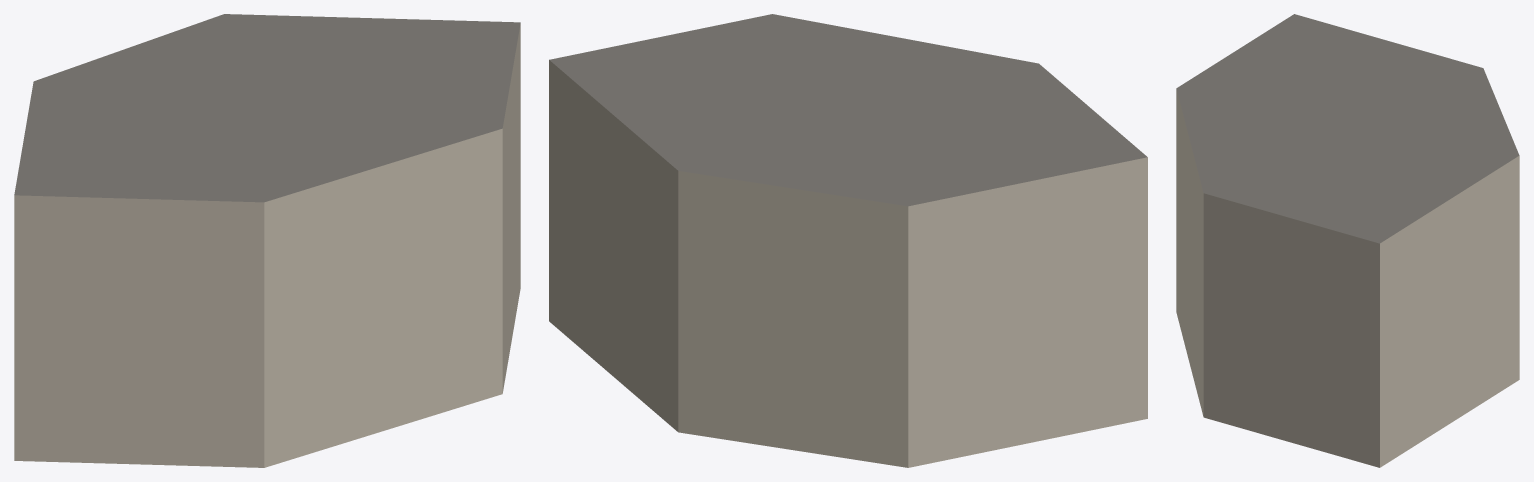
The picture shows the model from 3 angles, left to right: view 1: azimuth 30°, elevation 25°; view 2: azimuth 150°, elevation 25°; view 3: azimuth 270°, elevation 25°; orthographic projection. The views are drawn at different scales.
Visible parts, largest first — view 1: HP-w859488842; view 2: HP-w859488842; view 3: HP-w859488842.
Part boxes in pixels (left/top/right/bottom): HP-w859488842: left=14, top=14, right=520, bottom=467; HP-w859488842: left=549, top=14, right=1147, bottom=467; HP-w859488842: left=1176, top=14, right=1519, bottom=467.
Size of the model in its own units: 39.51 by 18 by 24.95.
